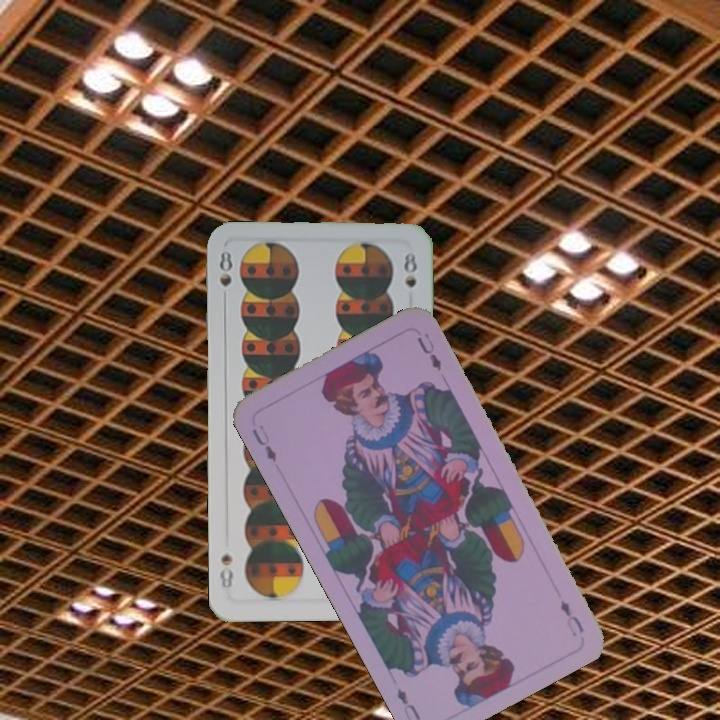EU: (247, 420, 279, 465), (556, 595, 587, 639)
S8: (215, 246, 235, 306)
